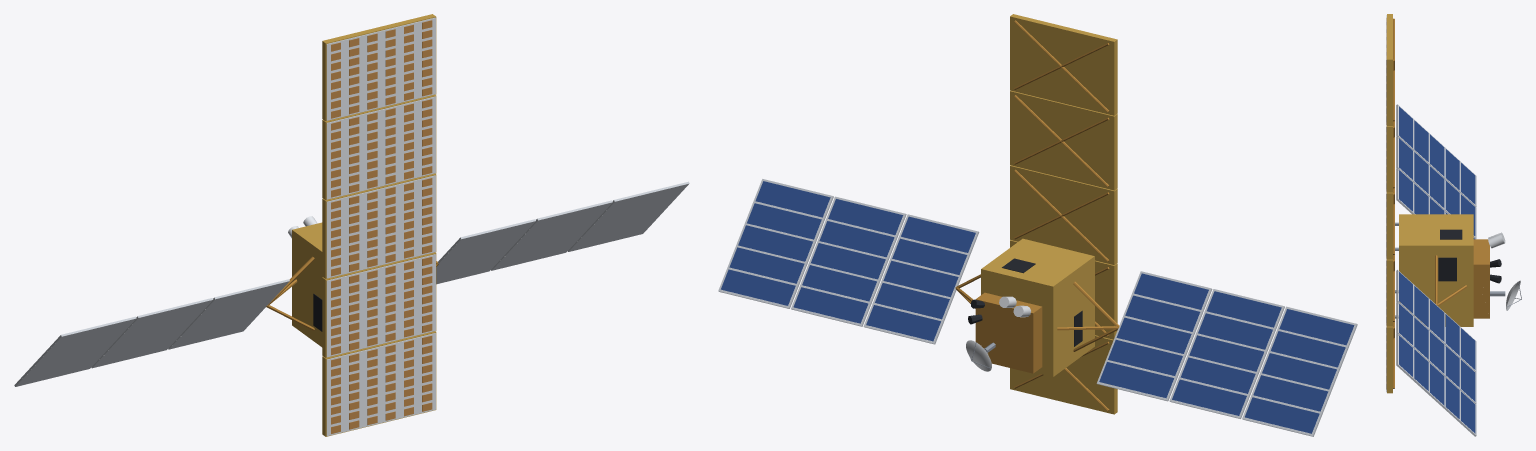
File: alos-2.glb
3 views of the same model, side by side, from view 1: azimuth 30°, elevation 25°; view 2: azimuth 150°, elevation 25°; view 3: azimuth 270°, elevation 25° (orthographic). The views are drawn at different scales.
Visible parts, largest first — view 1: body, foil; view 2: solar-panel, foil, body; view 3: solar-panel, foil, body.
Boxes of the visible parts, x1,y1,x2,y2 form: body: (14,17,689,436); foil: (292,14,436,436); solar-panel: (721,181,1354,433); foil: (975,14,1117,414); body: (718,20,1357,436); solar-panel: (1399,106,1475,433); foil: (1387,14,1489,393); body: (1386,15,1521,436).
Bounding box in the file's own units: 16.5 × 9.88 × 3.65.
